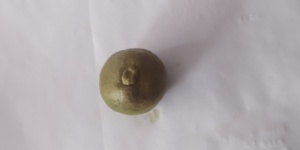BAD: (100, 48, 170, 115)
